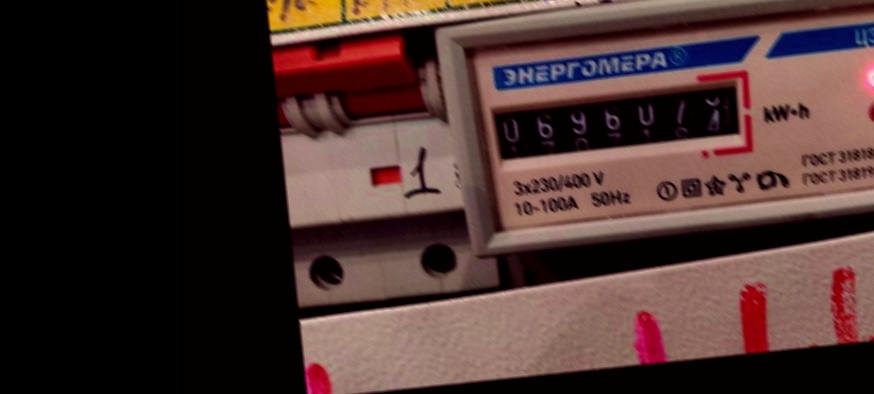0: (636, 96, 657, 128), (502, 114, 522, 144)
4: (704, 104, 724, 135)
6: (603, 101, 623, 131), (536, 109, 555, 139)
7: (670, 93, 692, 126)
9: (568, 106, 589, 136)
screen: (478, 66, 762, 178)
